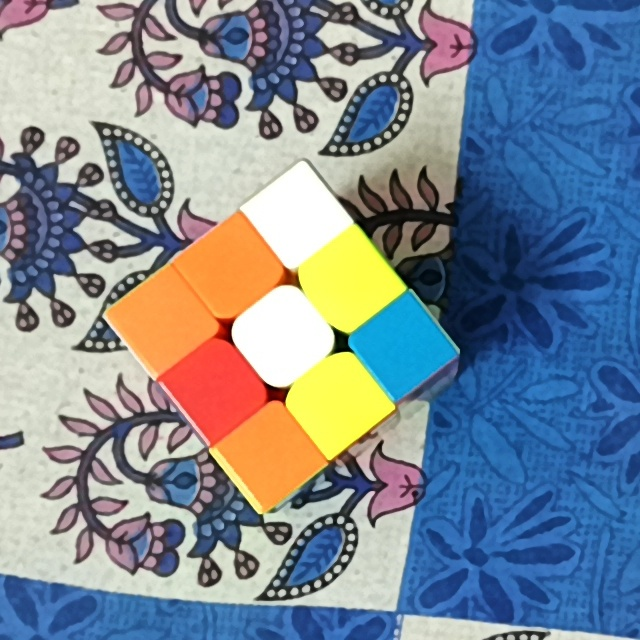tile: (136, 286, 196, 346), (253, 308, 311, 367), (186, 359, 244, 417), (208, 235, 259, 300), (379, 320, 437, 376), (242, 428, 301, 483), (312, 374, 364, 430), (270, 189, 322, 242), (323, 259, 378, 307)
